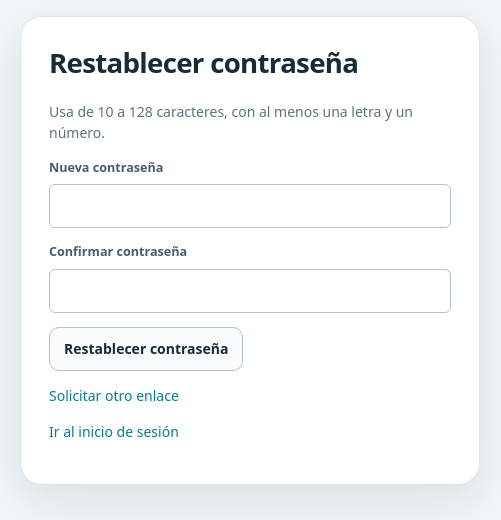
Scenario: Account recovery › uses token from email, removes it from URL and confirms reset
The width and height of the screenshot is (501, 520).
Type "Password123" into the password field labelled "Nueva contraseña" at {"x": 250, "y": 206}, box [49,184,451,228]
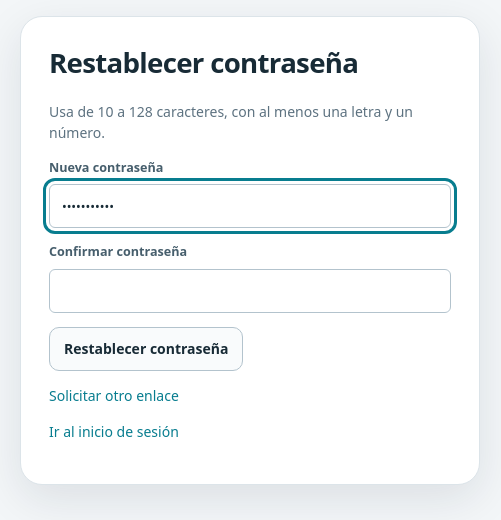
Type "Password123" into the password field labelled "Confirmar contraseña" at {"x": 250, "y": 291}, box [49,269,451,313]
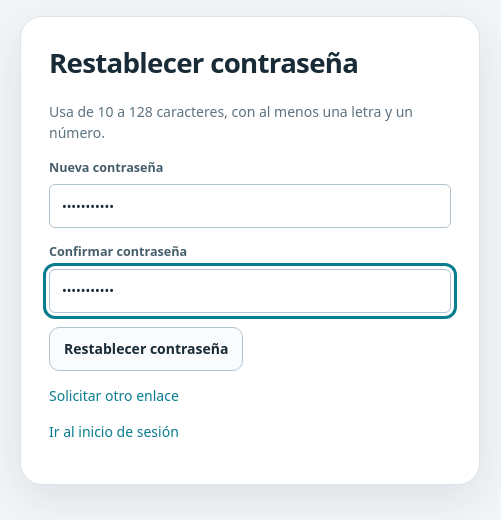
Click the button "Restablecer contraseña" at {"x": 146, "y": 349}, box [49,327,243,371]
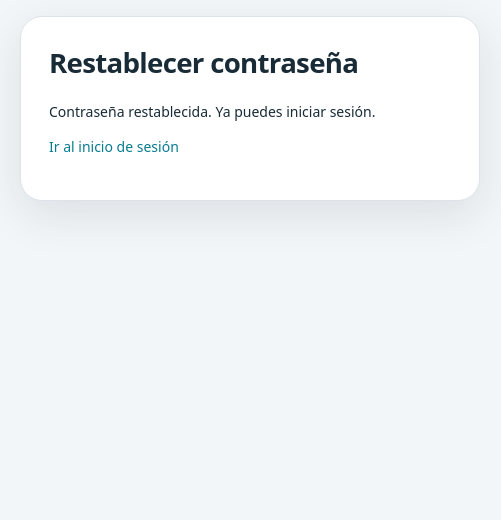
Expected: the message shows "Contraseña restablecida", [49,102,212,120]
